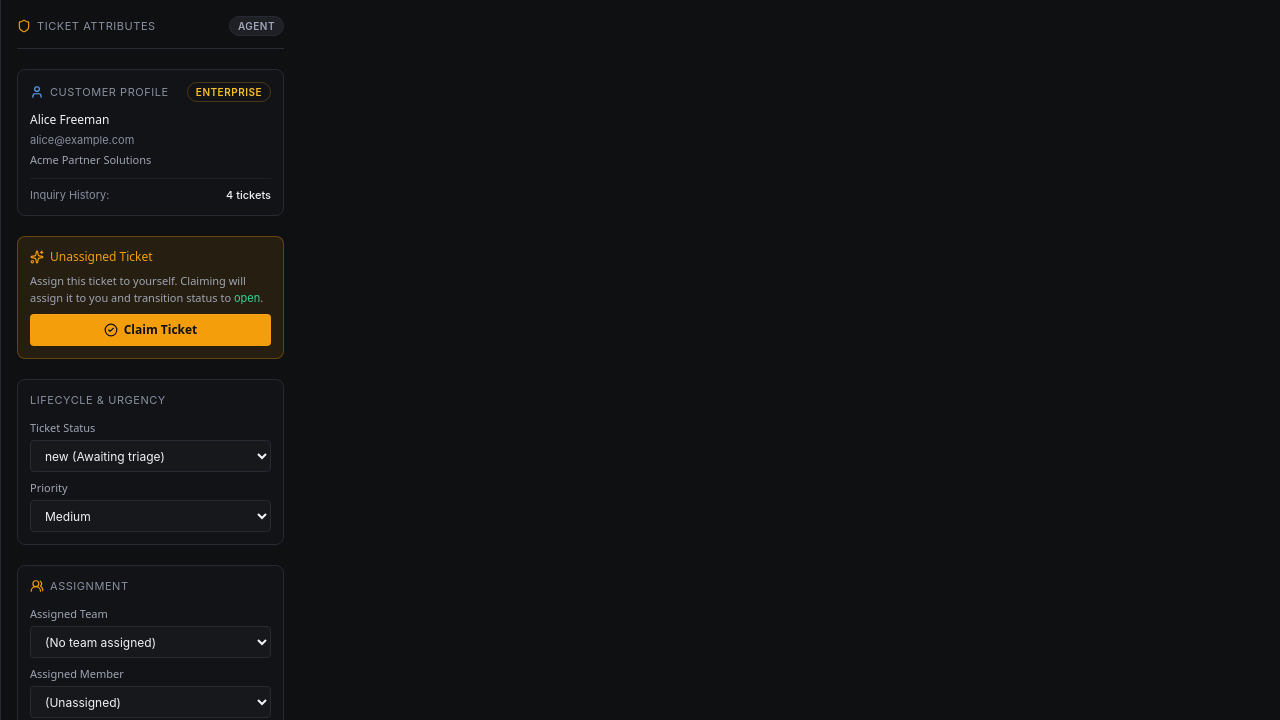
Test case: Ticket field conflict recovery › sends the Assignment revision for claim and Assignment without treating a lifecycle rejection as a conflict
Click the button "Claim Ticket" at [150, 330], box [30,314,271,346]
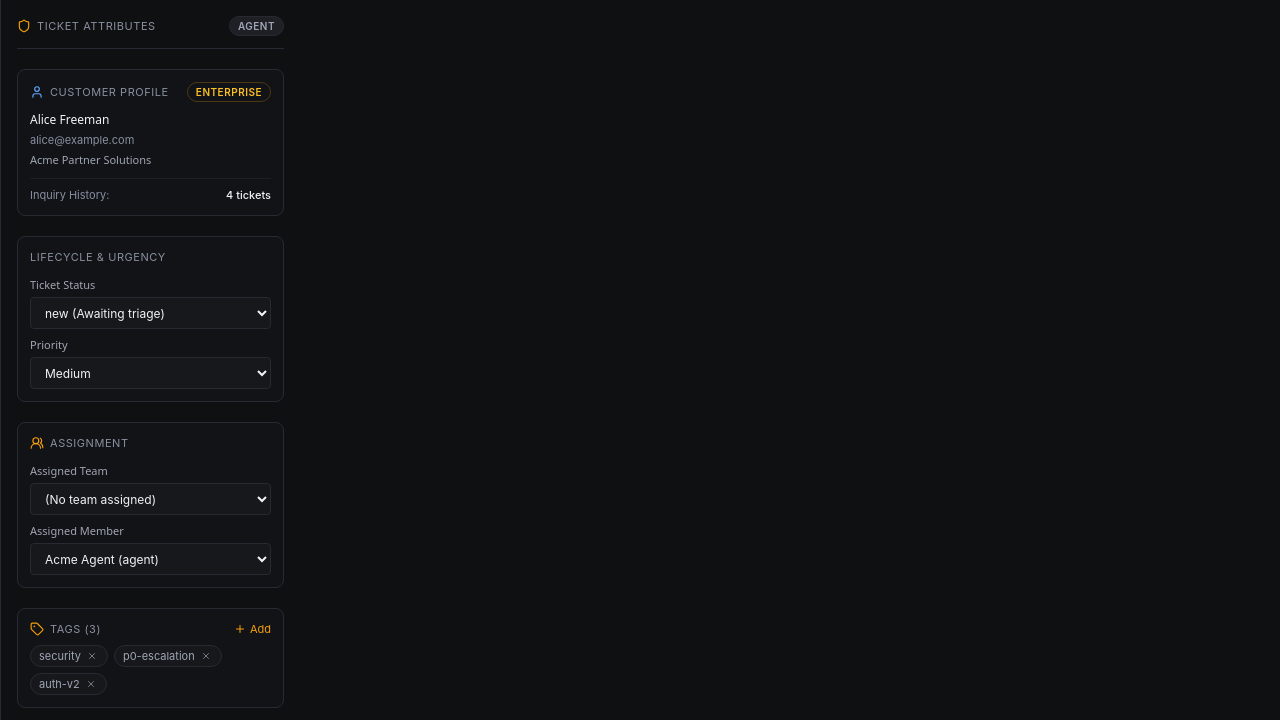
Select "Support Tier 1" in the dropdown labelled "Assigned Team" at [150, 499], box [30,483,271,515]
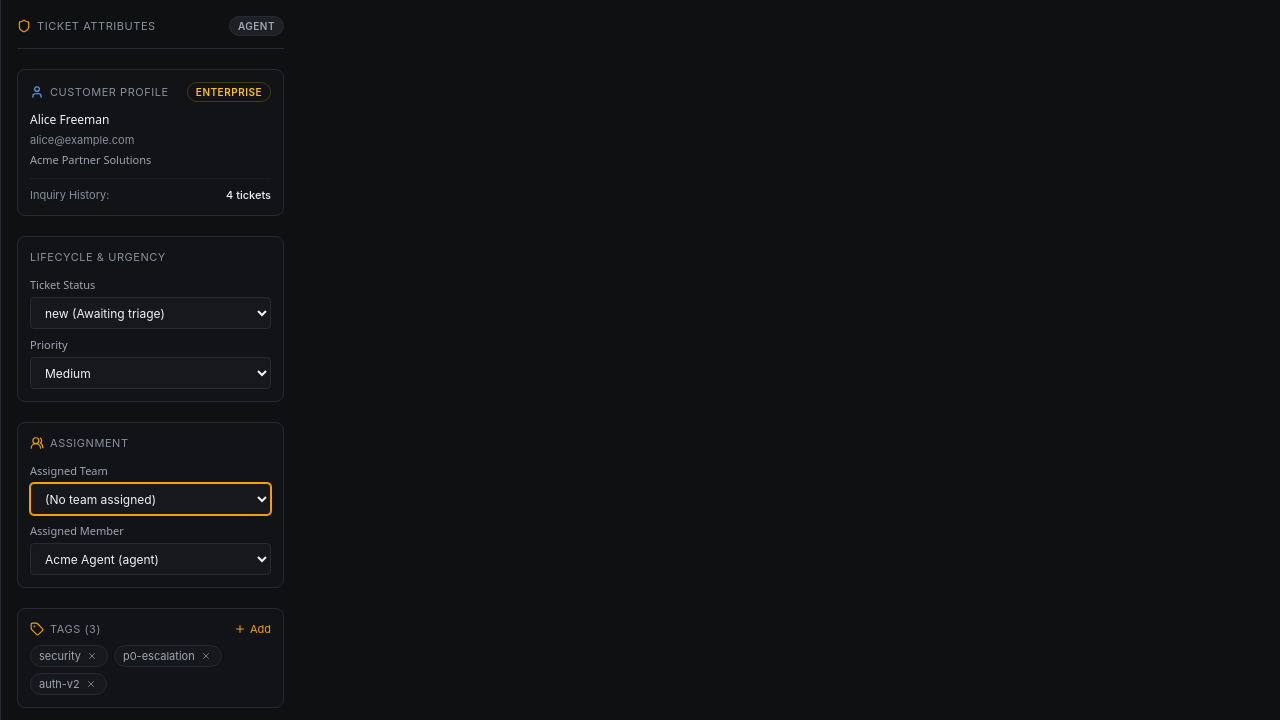
Select "closed (Finalized)" in the dropdown labelled "Ticket Status" at [150, 313], box [30,297,271,329]
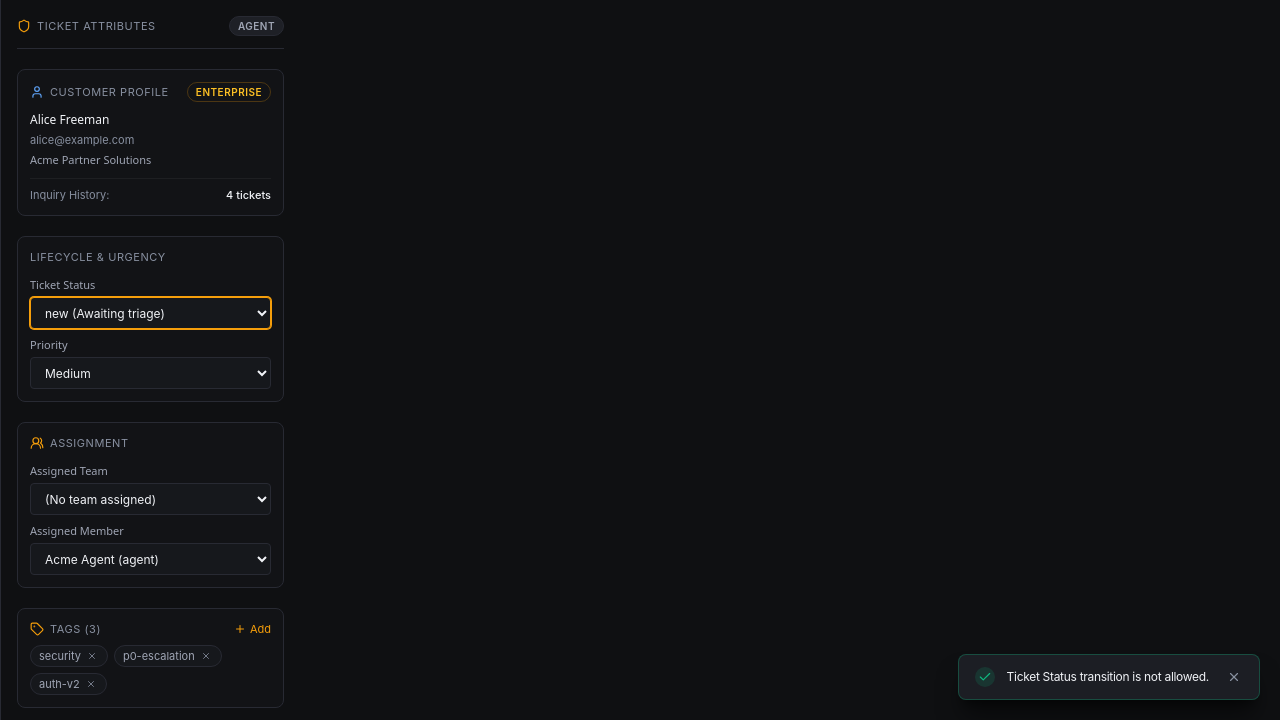
Expected: the text "Ticket Status transition is not allowed." is shown, [1007,669,1209,685]
